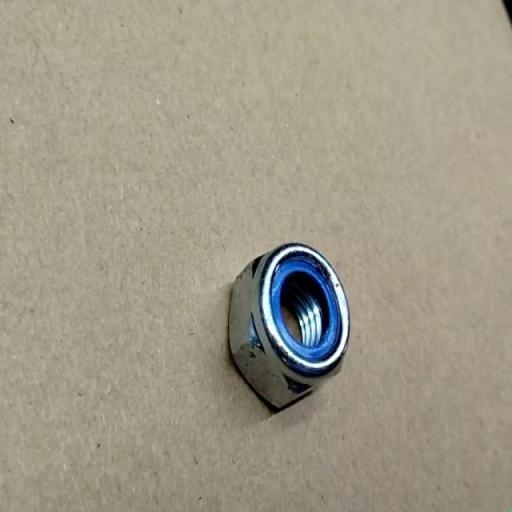Nut: (226, 242, 352, 414)
